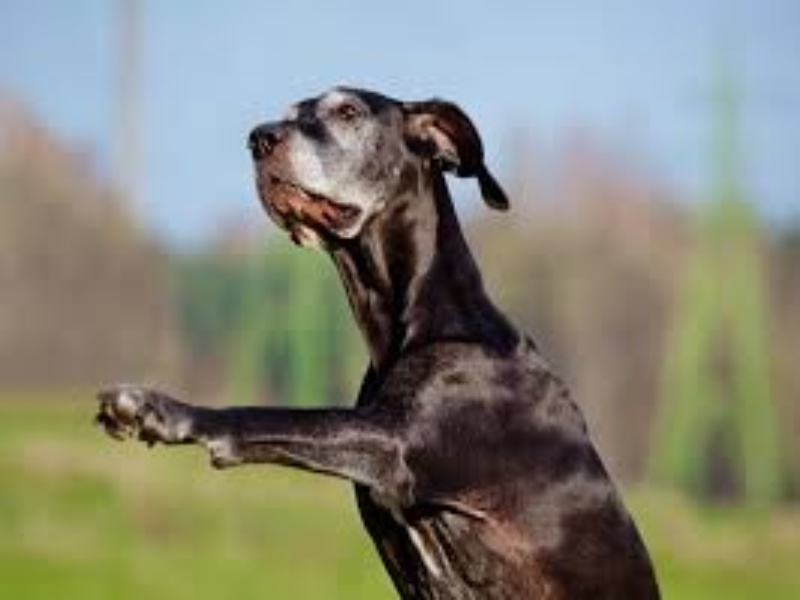dog: (92, 80, 696, 595)
